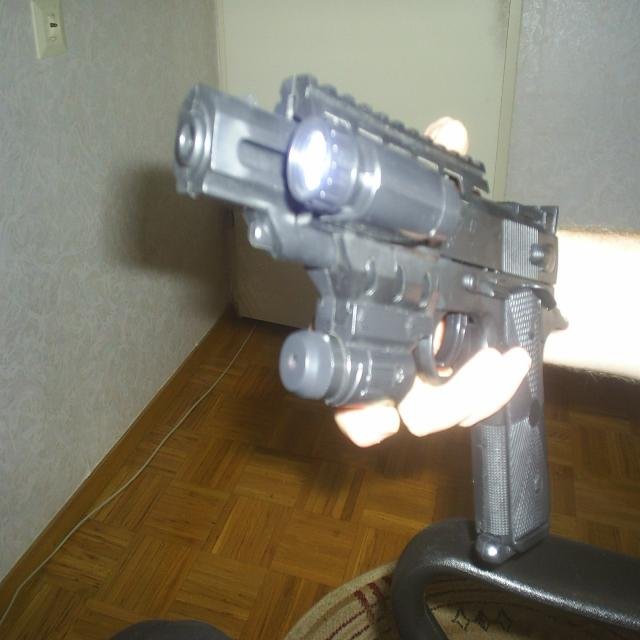pistol: (170, 70, 571, 566)
